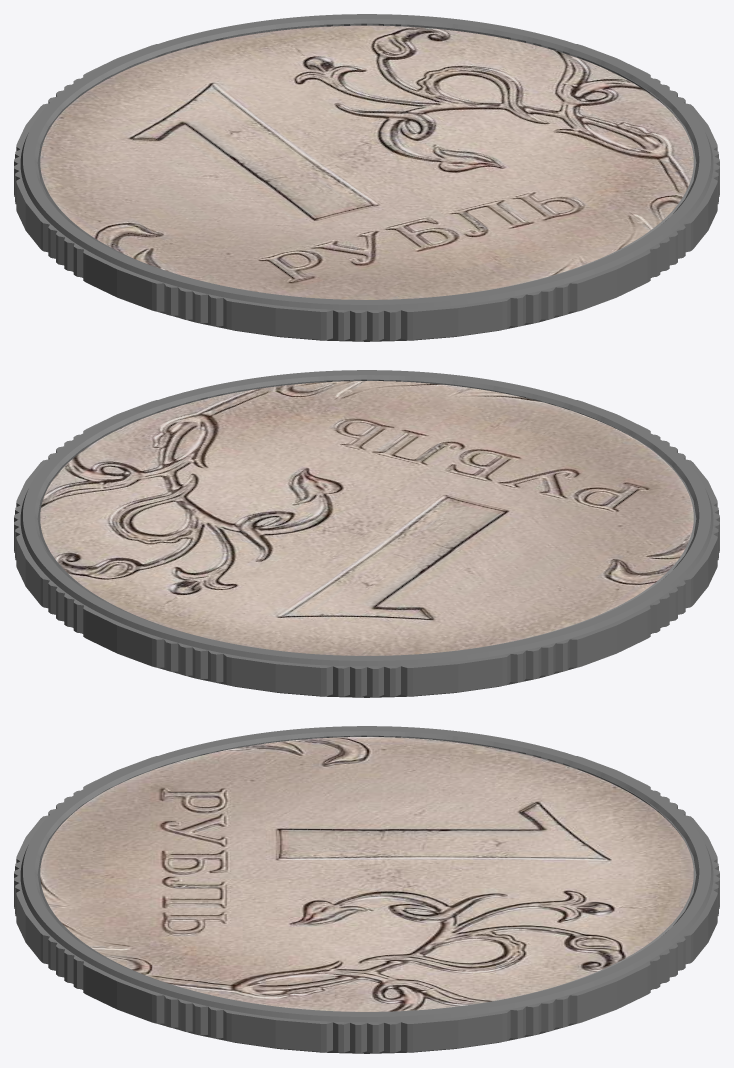
The model's file is russian_coin.gltf.
3 renders of one model, top to bottom at view 1: azimuth 30°, elevation 25°; view 2: azimuth 150°, elevation 25°; view 3: azimuth 270°, elevation 25°, orthographic.
Bounding box in the file's own units: 4.42 × 0.2536 × 4.42.
